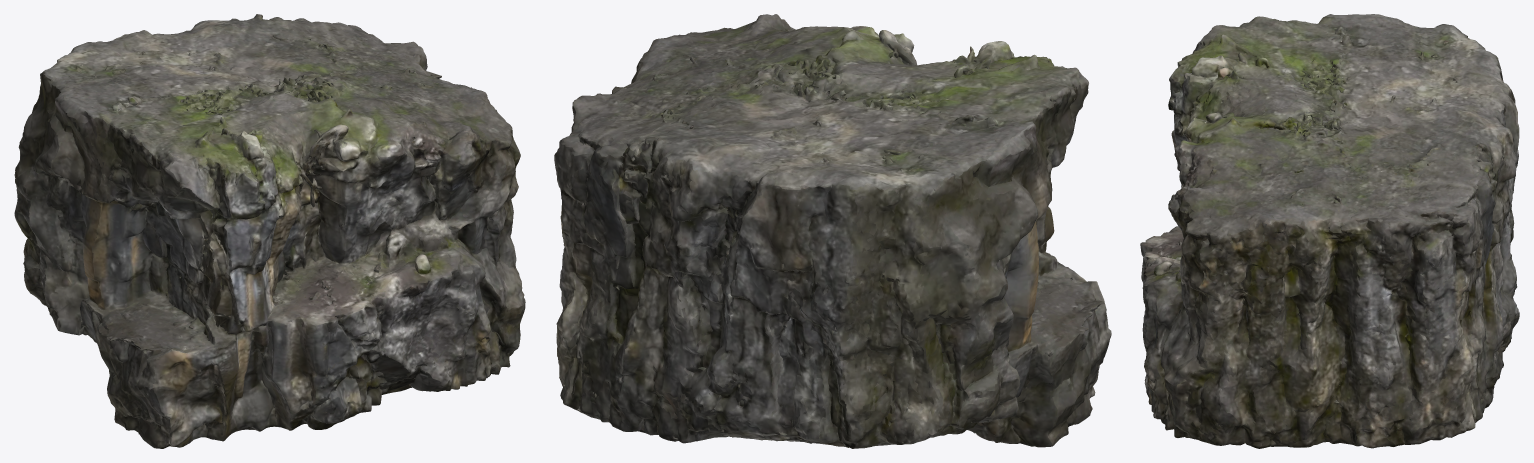
Rendered from cave-wall-v9.glb.
3 views of the same model, side by side, from view 1: azimuth 30°, elevation 25°; view 2: azimuth 150°, elevation 25°; view 3: azimuth 270°, elevation 25° (orthographic). The views are drawn at different scales.
Visible parts, largest first — view 1: geometry_0; view 2: geometry_0; view 3: geometry_0.
Boxes of the visible parts, x1,y1,x2,y2 form: geometry_0: (14,14,525,448); geometry_0: (554,14,1111,448); geometry_0: (1140,14,1519,448).
Size of the model in its own units: 1.2 by 0.8879 by 1.05.
Materials: 1 (1 with a texture image).
